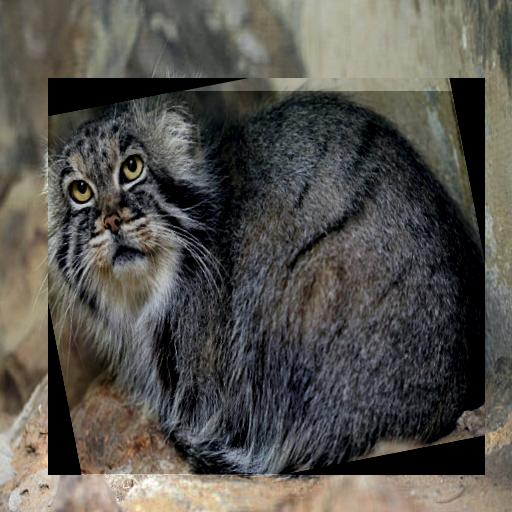manul: (48, 92, 485, 474)
